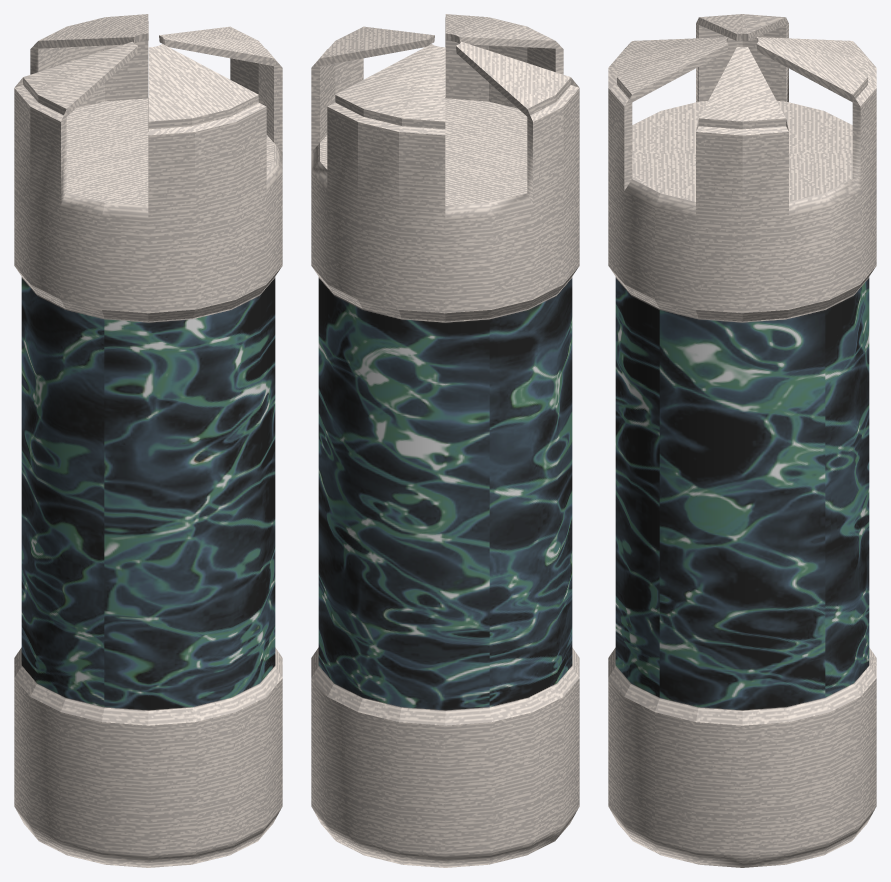
The model's file is Mesh_G_Smoke.fbx.
3 views of the same model, side by side, from view 1: azimuth 30°, elevation 25°; view 2: azimuth 150°, elevation 25°; view 3: azimuth 270°, elevation 25° (orthographic).
Parts seen in each view (by area): view 1: Mesh_G_Smoke; view 2: Mesh_G_Smoke; view 3: Mesh_G_Smoke.
Boxes of the visible parts, box(x1,y1,x2,y2) form: Mesh_G_Smoke: box(14, 14, 282, 867); Mesh_G_Smoke: box(311, 14, 579, 867); Mesh_G_Smoke: box(608, 14, 876, 867).
Size of the model in its own units: 0.2336 by 0.7319 by 0.2301.
